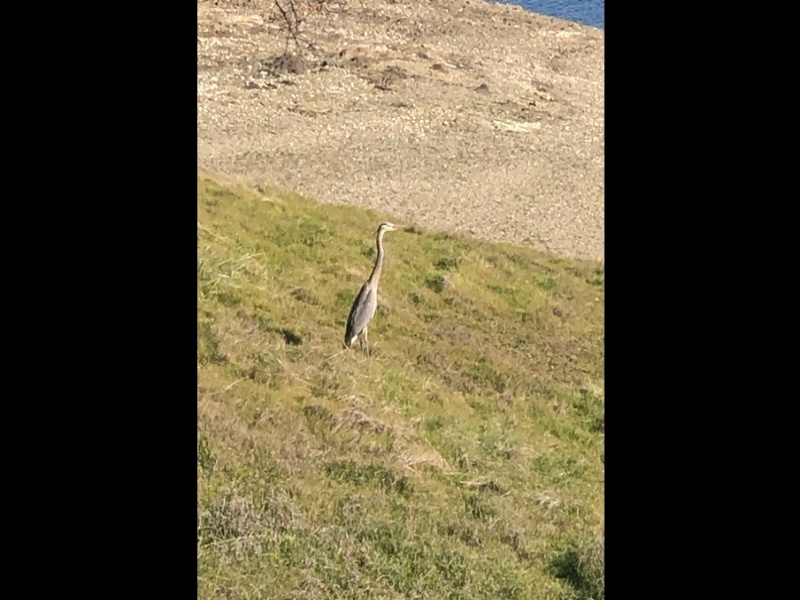heron: (341, 215, 409, 354)
